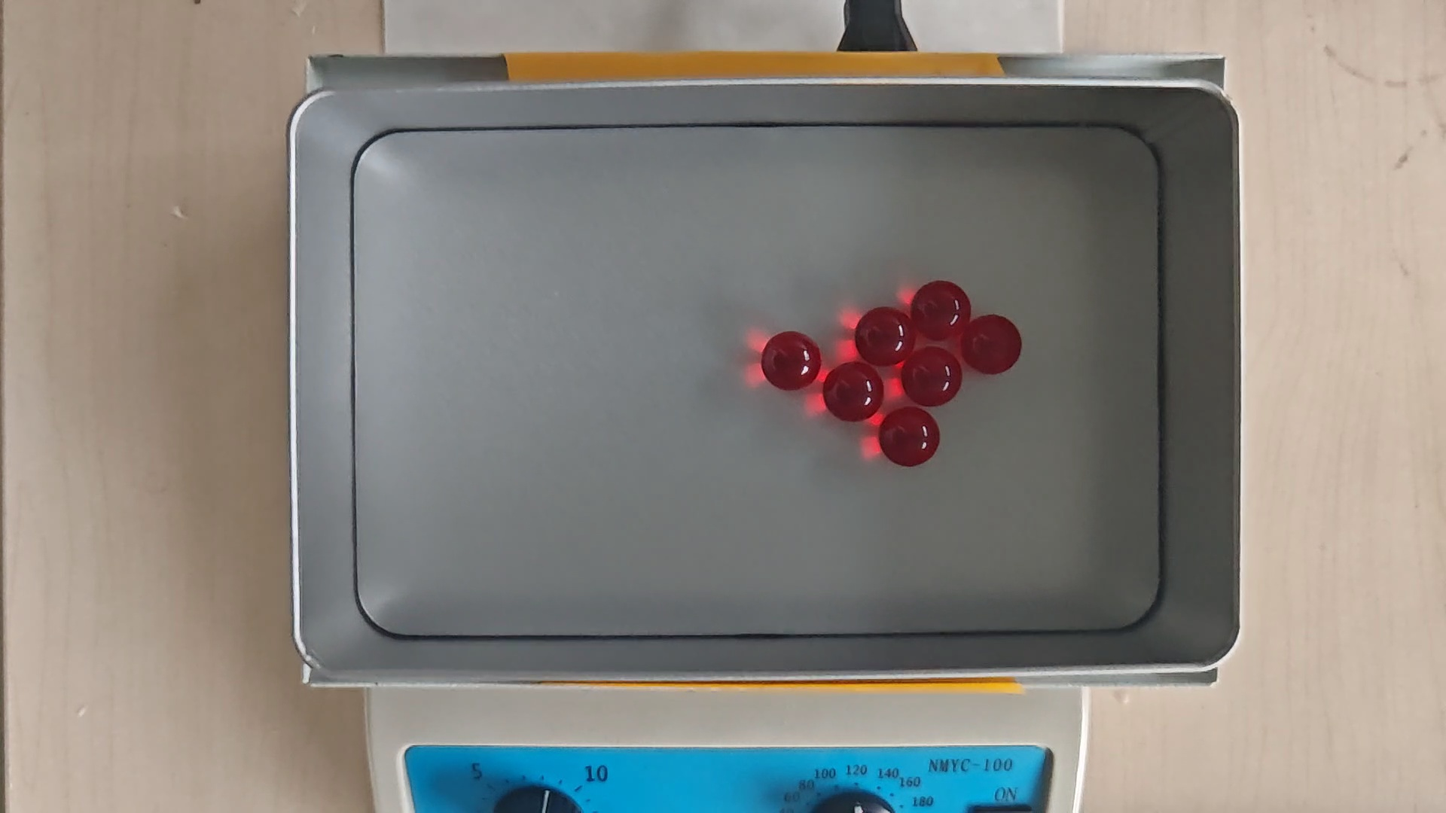ball: (962, 312, 1022, 375), (879, 406, 939, 467), (823, 361, 882, 423), (762, 330, 819, 392), (904, 349, 963, 407), (855, 309, 915, 366), (916, 281, 969, 340)
container: (348, 123, 1161, 632)
